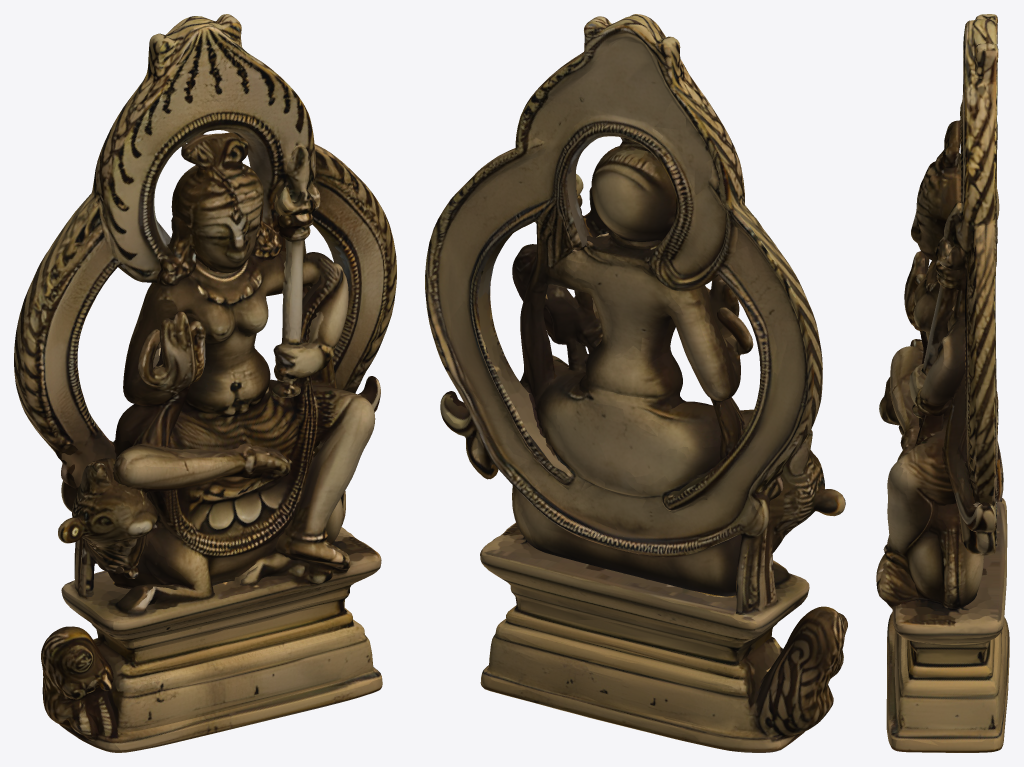
3 views of the same model, side by side, from view 1: azimuth 30°, elevation 25°; view 2: azimuth 150°, elevation 25°; view 3: azimuth 270°, elevation 25° (orthographic). The views are drawn at different scales.
Visible parts, largest first — view 1: textured_mesh; view 2: textured_mesh; view 3: textured_mesh.
Boxes of the visible parts, box(x1,y1,x2,y2) form: textured_mesh: box(14, 14, 396, 752); textured_mesh: box(425, 14, 847, 752); textured_mesh: box(876, 14, 1009, 752).
Bounding box in the file's own units: 1.17 × 1.99 × 0.3629.
Materials: 1 (1 with a texture image).
